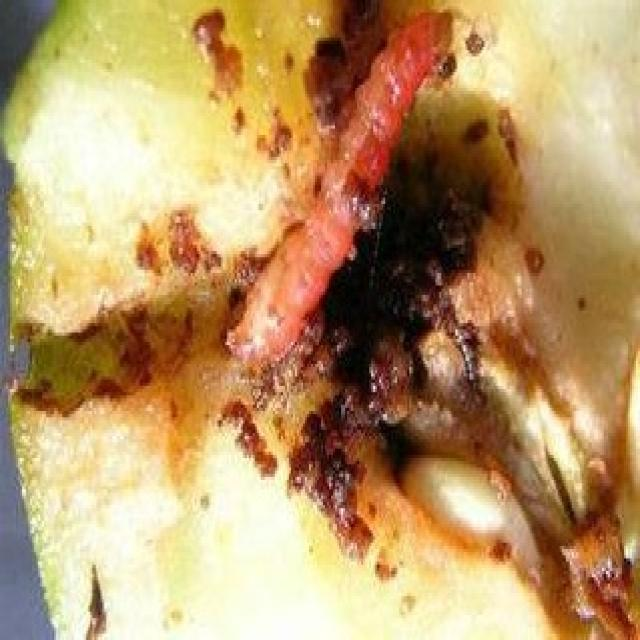peach borer: (224, 9, 456, 370)
